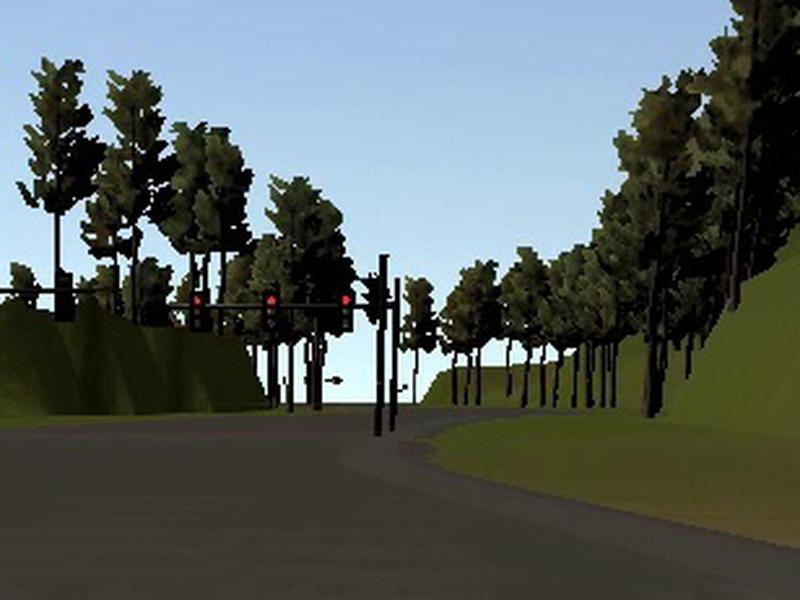Red: (261, 291, 281, 333), (189, 291, 209, 333), (337, 292, 353, 332)
